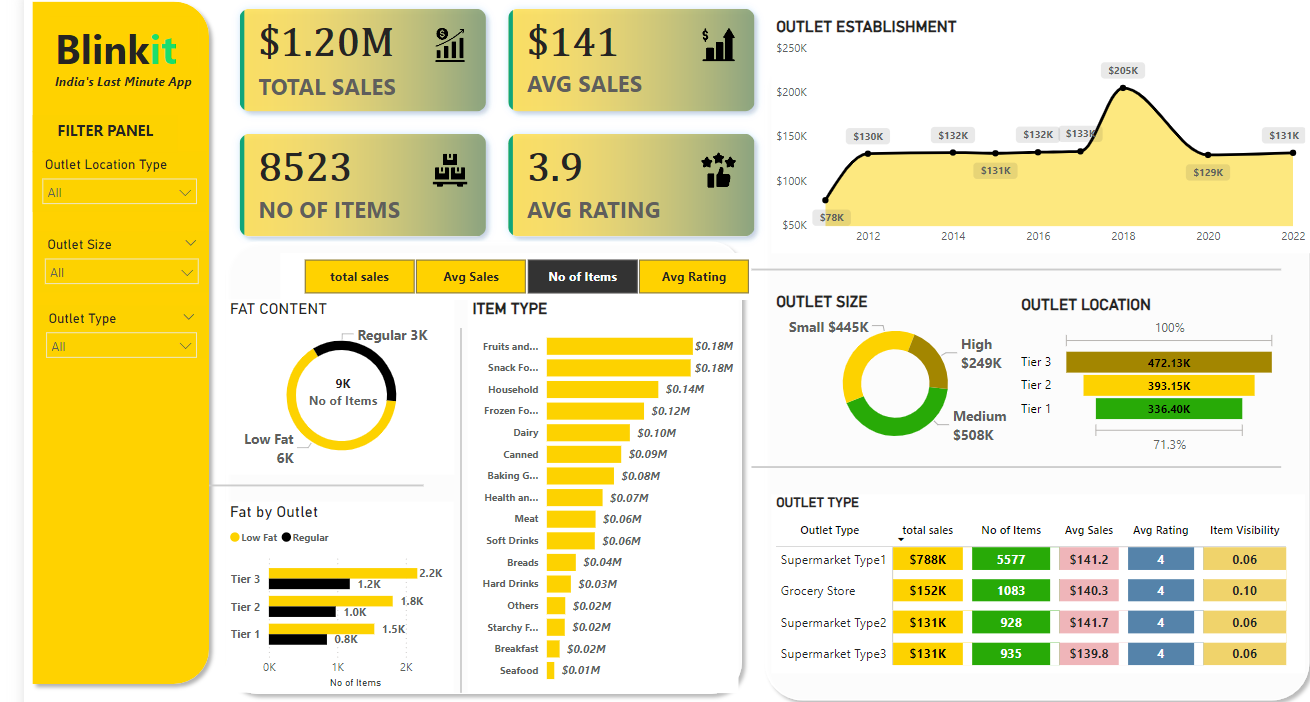

The page's visual inventory and layout, read from the dashboard file:
{"tool":"powerbi","page":{"name":"Page 1","canvas":[1400,800],"ordinal":0},"visuals":[{"type":"shape","box":[0,0,207.5,750],"z":0},{"type":"textbox","box":[27.8,25.6,158.9,80],"z":1000},{"type":"textbox","box":[27.5,80,170,45],"z":2000},{"type":"cardVisual","fields":{"Data":["BlinkIT Grocery Data.total sales","BlinkIT Grocery Data.Avg Sales","BlinkIT Grocery Data.No of Items","BlinkIT Grocery Data.Avg Rating"]},"box":[215,0,586.2,278.8],"z":3000},{"type":"shape","box":[207.8,257.8,571.1,503.3],"z":4000},{"type":"donutChart","title":"FAT CONTENT","fields":{"Y":["BlinkIT Grocery Data.Avg Sales"],"Category":["BlinkIT Grocery Data.Item Fat Content"]},"box":[215.6,328.9,245.6,187.8],"z":5000},{"type":"slicer","fields":{"Values":["Metric.Metric"]},"box":[275,278.3,526.7,50],"z":6000},{"type":"cardVisual","fields":{"Data":["BlinkIT Grocery Data.Avg Sales"]},"box":[275.6,392.2,132.2,75.6],"z":7000},{"type":"clusteredBarChart","title":"Fat by Outlet ","fields":{"Y":["BlinkIT Grocery Data.Avg Sales"],"Category":["BlinkIT Grocery Data.Outlet Location Type"],"Series":["BlinkIT Grocery Data.Item Fat Content"]},"box":[216.2,545,245,205],"z":8000},{"type":"shape","box":[198,520,230,16],"z":9000},{"type":"shape","box":[461.2,358.8,15,391.2],"z":10000},{"type":"barChart","title":"ITEM TYPE","fields":{"Y":["BlinkIT Grocery Data.total sales"],"Category":["BlinkIT Grocery Data.Item Type"]},"box":[476,328,290,422],"z":11000},{"type":"shape","box":[786,54,602,714],"z":12000},{"type":"lineChart","title":"OUTLET ESTABLISHMENT","fields":{"Y":["BlinkIT Grocery Data.total sales"],"Category":["BlinkIT Grocery Data.Outlet Establishment Year"]},"box":[801.2,25,577.5,253.8],"z":13000},{"type":"shape","box":[780,290,568,14],"z":14000},{"type":"donutChart","title":"OUTLET SIZE","fields":{"Y":["BlinkIT Grocery Data.total sales"],"Category":["BlinkIT Grocery Data.Outlet Size"]},"box":[802,320,262,178],"z":15000},{"type":"funnel","title":"OUTLET LOCATION","fields":{"Category":["BlinkIT Grocery Data.Outlet Location Type"],"Y":["Sum(BlinkIT Grocery Data.Sales)"]},"box":[1064,324,284,174],"z":16000},{"type":"pivotTable","title":"OUTLET TYPE","fields":{"Values":["BlinkIT Grocery Data.total sales","BlinkIT Grocery Data.No of Items","BlinkIT Grocery Data.Avg Sales","BlinkIT Grocery Data.Avg Rating","Avg(BlinkIT Grocery Data.Item Visibility)"],"Rows":["BlinkIT Grocery Data.Outlet Type"]},"box":[802,538,572,192],"z":17000},{"type":"shape","box":[780,502,568,14],"z":18000},{"type":"slicer","fields":{"Values":["BlinkIT Grocery Data.Outlet Location Type"]},"box":[10,170,186,64],"z":19000},{"type":"slicer","fields":{"Values":["BlinkIT Grocery Data.Outlet Size"]},"box":[12.2,255.6,185.6,64.4],"z":20000},{"type":"slicer","fields":{"Values":["BlinkIT Grocery Data.Outlet Type"]},"box":[13.3,335.6,182.2,56.7],"z":21000},{"type":"textbox","box":[10,131.1,155.6,38.9],"z":22000}]}

Visuals, with their boxes on the page's 1400x800 design canvas (x1, y1, x2, y2). These are canvas units, not pixel positions in the 1310x702 screenshot, which may show the page scaled, cropped or inside an application window:
shape: pyautogui.locateOnScreen(0, 0, 208, 750)
textbox: pyautogui.locateOnScreen(28, 26, 187, 106)
textbox: pyautogui.locateOnScreen(28, 80, 198, 125)
cardVisual - BlinkIT Grocery Data.total sales x BlinkIT Grocery Data.Avg Sales: pyautogui.locateOnScreen(215, 0, 801, 279)
shape: pyautogui.locateOnScreen(208, 258, 779, 761)
"FAT CONTENT" donutChart: pyautogui.locateOnScreen(216, 329, 461, 517)
slicer - Metric.Metric: pyautogui.locateOnScreen(275, 278, 802, 328)
cardVisual - BlinkIT Grocery Data.Avg Sales: pyautogui.locateOnScreen(276, 392, 408, 468)
"Fat by Outlet " clusteredBarChart: pyautogui.locateOnScreen(216, 545, 461, 750)
shape: pyautogui.locateOnScreen(198, 520, 428, 536)
shape: pyautogui.locateOnScreen(461, 359, 476, 750)
"ITEM TYPE" barChart: pyautogui.locateOnScreen(476, 328, 766, 750)
shape: pyautogui.locateOnScreen(786, 54, 1388, 768)
"OUTLET ESTABLISHMENT" lineChart: pyautogui.locateOnScreen(801, 25, 1379, 279)
shape: pyautogui.locateOnScreen(780, 290, 1348, 304)
"OUTLET SIZE" donutChart: pyautogui.locateOnScreen(802, 320, 1064, 498)
"OUTLET LOCATION" funnel: pyautogui.locateOnScreen(1064, 324, 1348, 498)
"OUTLET TYPE" pivotTable: pyautogui.locateOnScreen(802, 538, 1374, 730)
shape: pyautogui.locateOnScreen(780, 502, 1348, 516)
slicer - BlinkIT Grocery Data.Outlet Location Type: pyautogui.locateOnScreen(10, 170, 196, 234)
slicer - BlinkIT Grocery Data.Outlet Size: pyautogui.locateOnScreen(12, 256, 198, 320)
slicer - BlinkIT Grocery Data.Outlet Type: pyautogui.locateOnScreen(13, 336, 196, 392)
textbox: pyautogui.locateOnScreen(10, 131, 166, 170)
